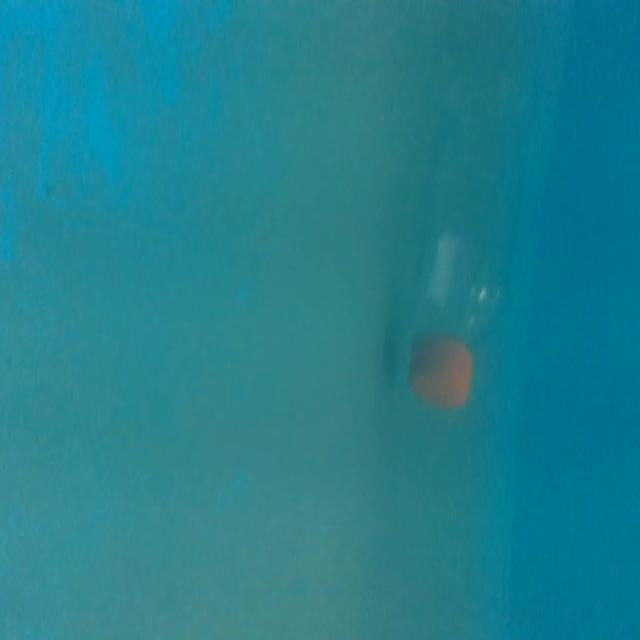plastic bottle: (394, 35, 527, 409)
